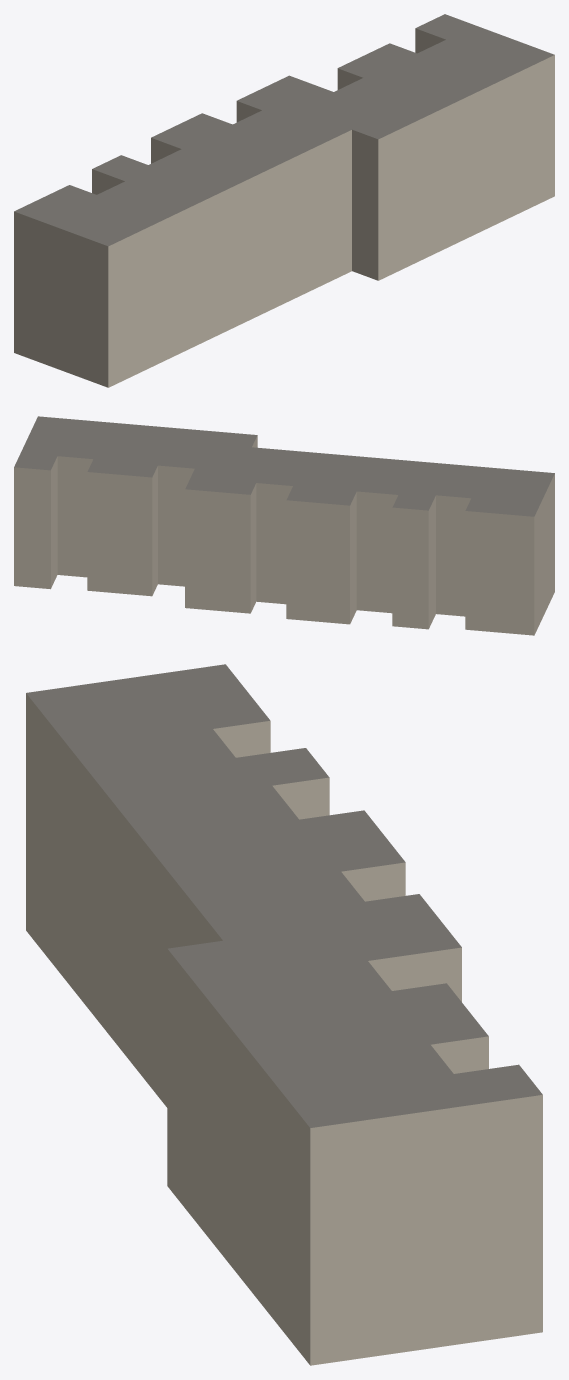
The picture shows the model from 3 angles, top to bottom: view 1: azimuth 30°, elevation 25°; view 2: azimuth 150°, elevation 25°; view 3: azimuth 270°, elevation 25°; orthographic projection. The views are drawn at different scales.
Visible parts, largest first — view 1: HP-w757502020; view 2: HP-w757502020; view 3: HP-w757502020.
Boxes of the visible parts, x1,y1,x2,y2 form: HP-w757502020: [14, 14, 554, 387]; HP-w757502020: [14, 416, 554, 635]; HP-w757502020: [26, 664, 542, 1365].
Bounding box in the file's own units: 75.38 × 18 × 35.5.
